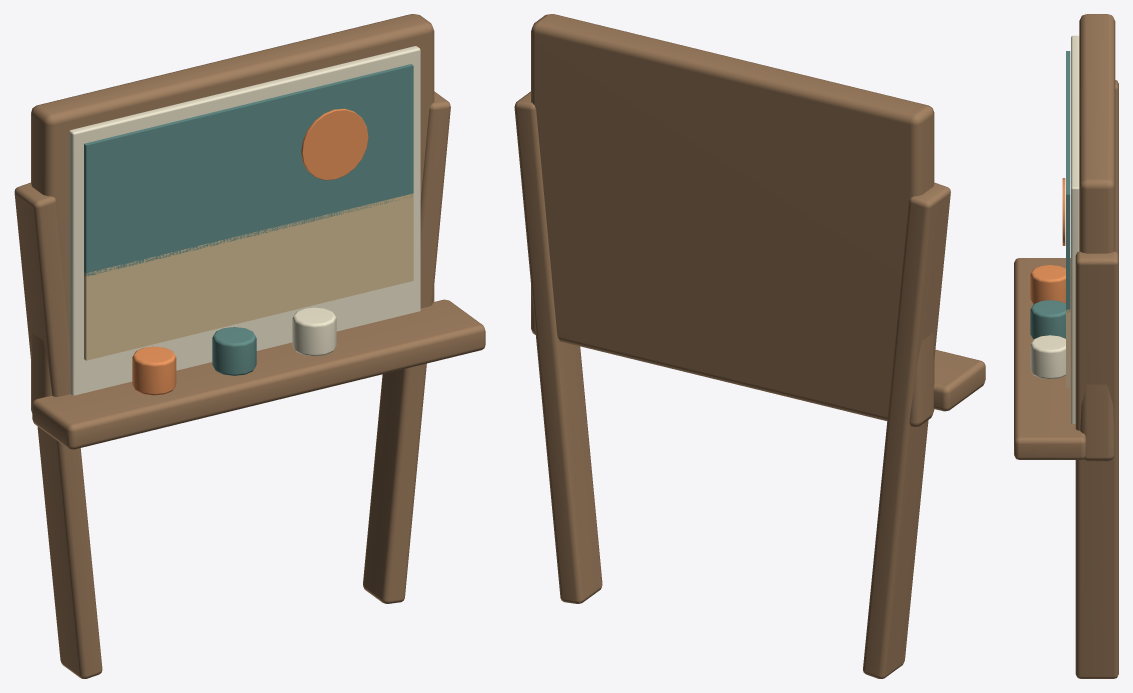
File: NW1_Easel.fbx
The picture shows the model from 3 angles, left to right: view 1: azimuth 30°, elevation 25°; view 2: azimuth 150°, elevation 25°; view 3: azimuth 270°, elevation 25°; orthographic projection. The views are drawn at different scales.
Visible parts, largest first — view 1: NW1_Easel_NW1_Wood, NW1_Easel_NW1_Teal, NW1_Easel_NW1_SandPaint, NW1_Easel_NW1_Ivory, NW1_Easel_NW1_Orange; view 2: NW1_Easel_NW1_Wood; view 3: NW1_Easel_NW1_Wood, NW1_Easel_NW1_Ivory, NW1_Easel_NW1_Teal, NW1_Easel_NW1_Orange, NW1_Easel_NW1_SandPaint.
Boxes of the visible parts, x1,y1,x2,y2 form: NW1_Easel_NW1_Wood: [14, 14, 485, 678]; NW1_Easel_NW1_Teal: [84, 64, 413, 375]; NW1_Easel_NW1_SandPaint: [84, 193, 413, 360]; NW1_Easel_NW1_Ivory: [69, 46, 420, 395]; NW1_Easel_NW1_Orange: [132, 108, 368, 395]; NW1_Easel_NW1_Wood: [514, 14, 985, 678]; NW1_Easel_NW1_Wood: [1014, 14, 1118, 678]; NW1_Easel_NW1_Ivory: [1030, 35, 1079, 423]; NW1_Easel_NW1_Teal: [1030, 51, 1070, 339]; NW1_Easel_NW1_Orange: [1030, 178, 1065, 303]; NW1_Easel_NW1_SandPaint: [1066, 309, 1070, 388].
Bounding box in the file's own units: 1.2 × 1.56 × 0.29.
